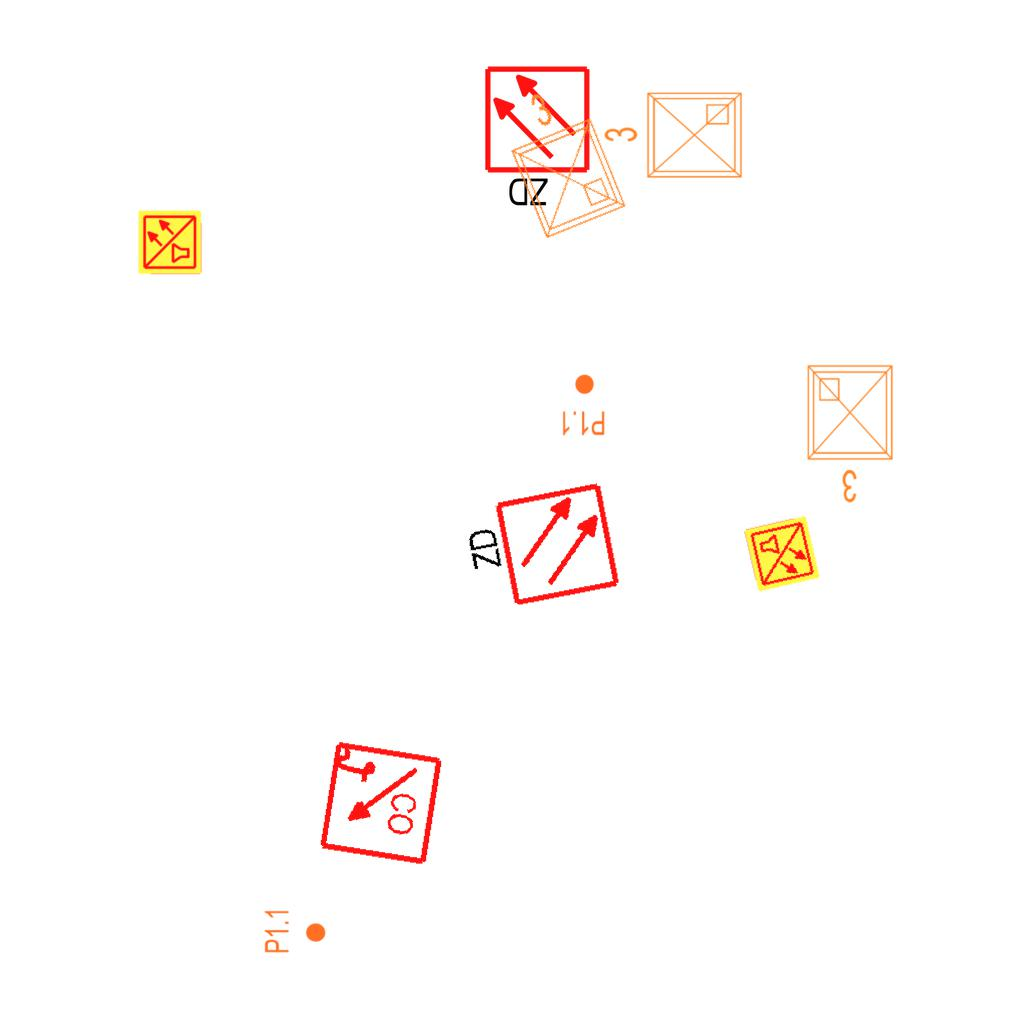Downlight_LED_Einbauleuchten_Flur: (263, 908, 327, 954), (560, 373, 606, 437)
Einbaudownlights_LED_Konferenzraeume: (482, 70, 636, 250), (800, 358, 904, 508), (599, 85, 749, 189)
OKW_Multisensormelder_(Kombination_optischer_Rauch-Kahlenmonoxid_Waerme-Melder): (742, 514, 822, 594), (137, 209, 203, 275)
ROA_Rauchmelder_optisch_mit_Signalgeber_(Sockelsirene): (314, 738, 445, 869)
ZD_Melder_in_Zwischendecke_mit_Revisionsoeffnung_mind_40_x_40_cm: (454, 479, 624, 620), (482, 64, 596, 213)
